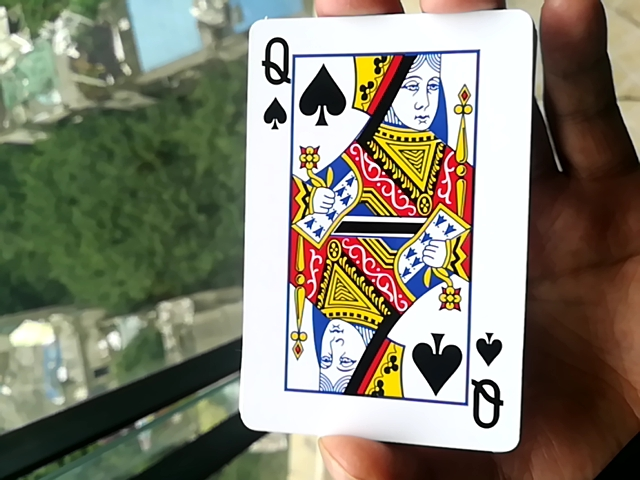ht q: (231, 2, 531, 459)
